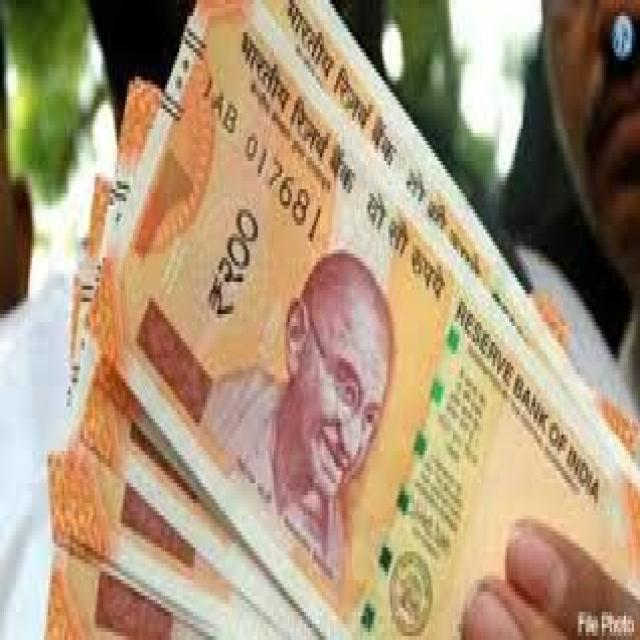200rs: (68, 207, 638, 594), (192, 10, 424, 305)
